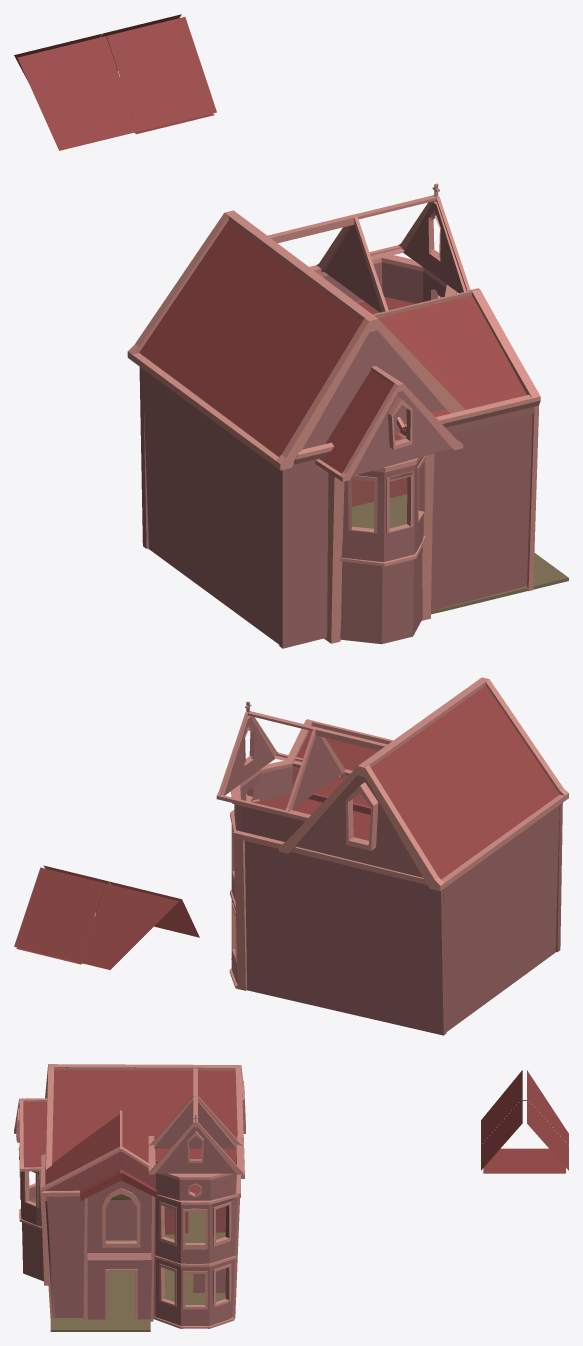
The model's file is HOUSE_done_tiny.fbx.
The picture shows the model from 3 angles, top to bottom: view 1: azimuth 30°, elevation 25°; view 2: azimuth 150°, elevation 25°; view 3: azimuth 270°, elevation 25°; orthographic projection. The views are drawn at different scales.
Parts seen in each view (by area): view 1: roof.006, back wall.001, roof.005, front wall.001, roof trim.003, roof.004, fix.001, roof wall.003, mid walls.001, collums.001, roof wall.002, roof trim.002 (+7 smaller); view 2: Cube.002, roof.006, back wall.001, roof.005, roof trim.003, roof wall.003, roof trim.002, collums.001, wall.001, roof wall.002, roof.004, window cross.003 (+5 smaller); view 3: roof.006, mid walls.001, roof.005, bay window.001, floor.001, front wall.001, roof.004, window frame.001, roof trim.003, roof wall.002, collums.001, roof trim.002 (+11 smaller).
Part boxes in pixels (x1,y1,x2,y2): roof.006: [139, 220, 451, 473]; back wall.001: [141, 368, 279, 644]; roof.005: [14, 14, 216, 150]; front wall.001: [431, 407, 533, 610]; roof trim.003: [127, 210, 465, 481]; roof.004: [378, 295, 526, 440]; fix.001: [279, 433, 406, 648]; roof wall.003: [302, 330, 451, 476]; mid walls.001: [340, 547, 422, 644]; collums.001: [324, 300, 539, 643]; roof wall.002: [324, 202, 463, 312]; roof trim.002: [267, 195, 470, 311]; Cube.002: [244, 841, 446, 1035]; roof.006: [371, 685, 559, 879]; back wall.001: [443, 805, 559, 1031]; roof.005: [14, 865, 199, 969]; roof trim.003: [279, 677, 568, 891]; roof wall.003: [296, 775, 422, 877]; roof trim.002: [216, 711, 387, 820]; collums.001: [232, 830, 426, 990]; wall.001: [234, 766, 304, 842]; roof wall.002: [224, 717, 340, 809]; roof.004: [292, 725, 387, 807]; window cross.003: [345, 782, 378, 850]; roof.006: [23, 1067, 237, 1167]; mid walls.001: [22, 1181, 152, 1319]; roof.005: [481, 1070, 568, 1173]; bay window.001: [153, 1197, 237, 1325]; floor.001: [30, 1194, 225, 1331]; front wall.001: [45, 1196, 84, 1317]; roof.004: [45, 1114, 157, 1200]; window frame.001: [153, 1194, 238, 1328]; roof trim.003: [14, 1064, 244, 1178]; roof wall.002: [154, 1101, 236, 1173]; collums.001: [39, 1171, 240, 1321]; roof trim.002: [148, 1068, 243, 1174].
Bounding box in the file's own units: 834 × 875 × 2080.
